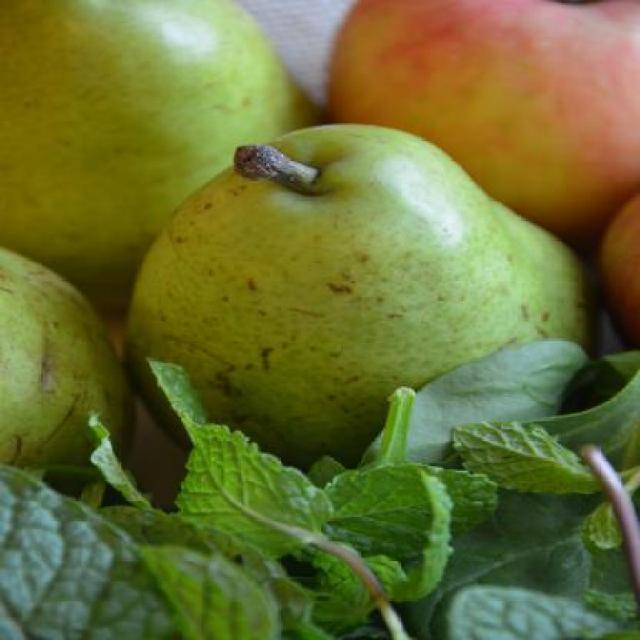Pear: (122, 122, 596, 474), (0, 0, 323, 292), (0, 241, 132, 478)
